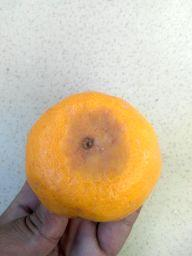Unripe: (27, 91, 160, 221)
